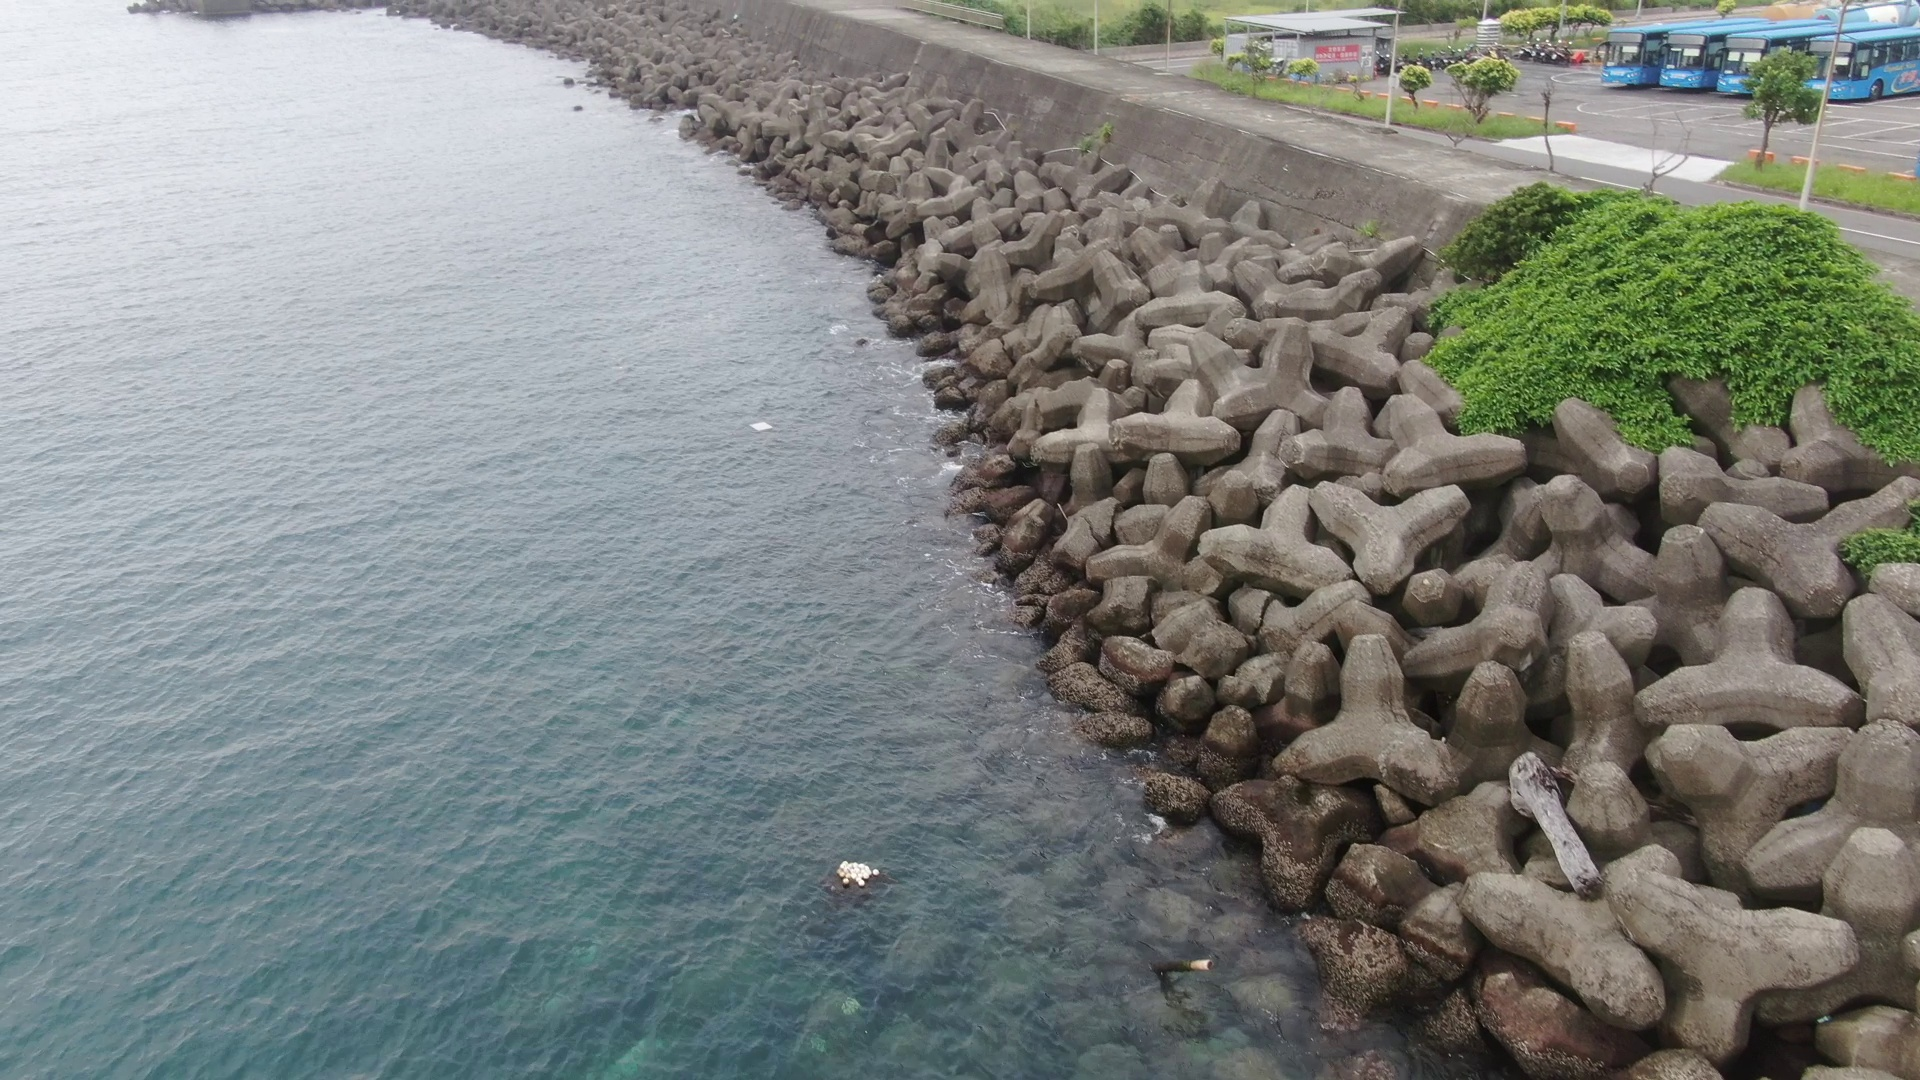garbage: (828, 851, 886, 895), (748, 419, 778, 442)
